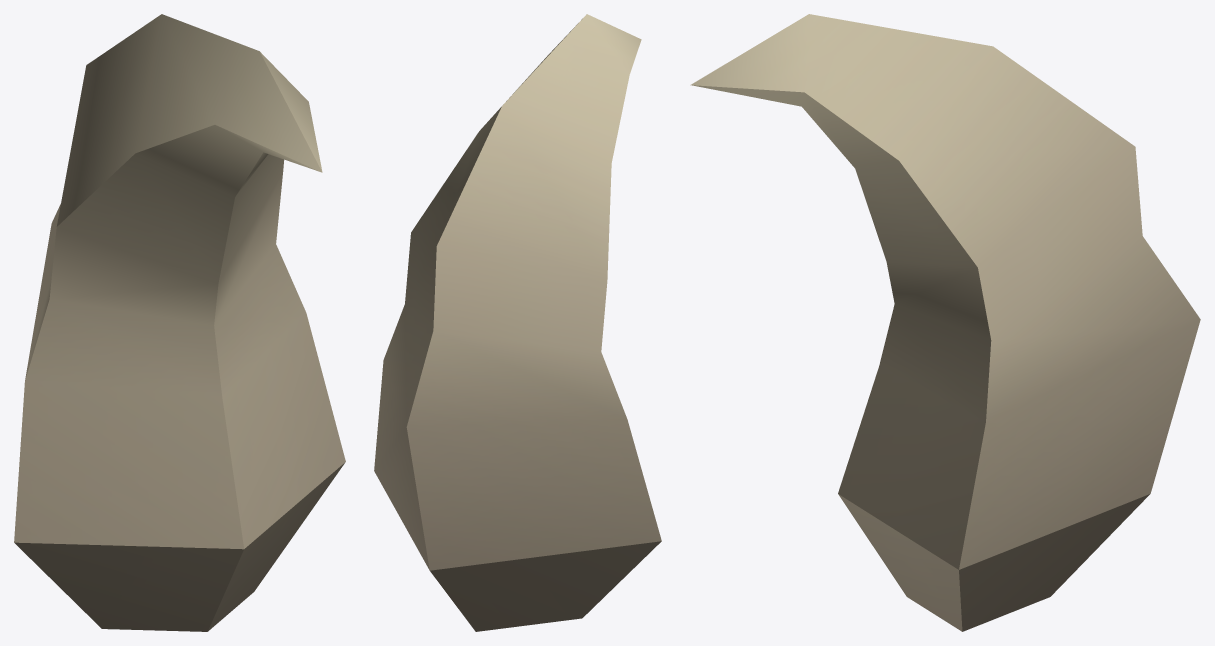
File: SM_Bone_Tooth_02.fbx
3 views of the same model, side by side, from view 1: azimuth 30°, elevation 25°; view 2: azimuth 150°, elevation 25°; view 3: azimuth 270°, elevation 25° (orthographic). The views are drawn at different scales.
Parts seen in each view (by area): view 1: SM_Bone_Tooth_02; view 2: SM_Bone_Tooth_02; view 3: SM_Bone_Tooth_02.
Part boxes in pixels (box(x1,y1,x2,y2)): SM_Bone_Tooth_02: box(14, 14, 345, 631); SM_Bone_Tooth_02: box(374, 14, 661, 631); SM_Bone_Tooth_02: box(690, 14, 1200, 631).
Size of the model in its own units: 231 by 411 by 326.
Materials: 1 (1 with a texture image).
